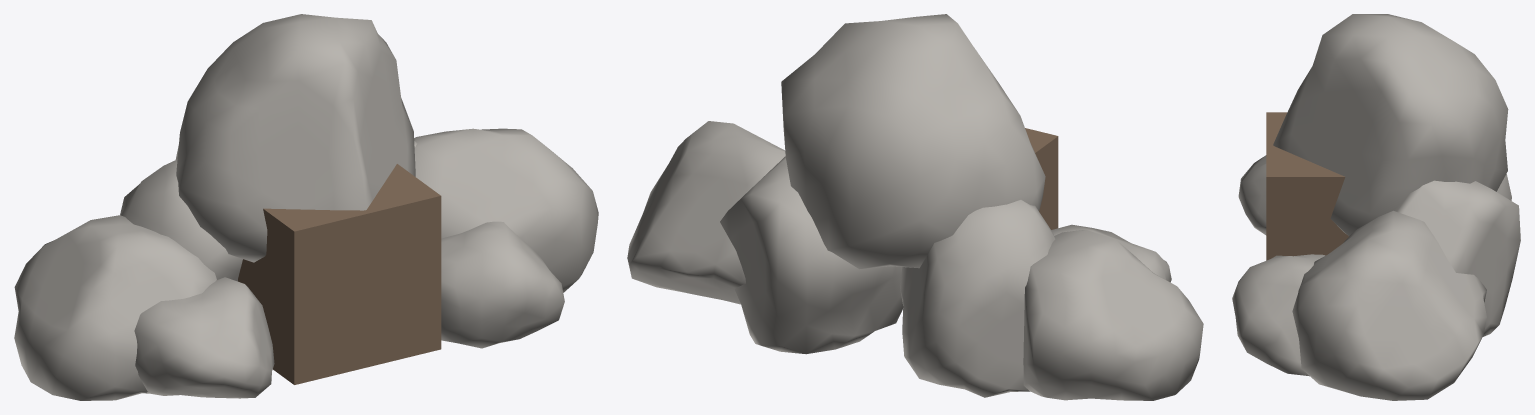
Rendered from cave_mouth.glb.
The picture shows the model from 3 angles, left to right: view 1: azimuth 30°, elevation 25°; view 2: azimuth 150°, elevation 25°; view 3: azimuth 270°, elevation 25°; orthographic projection. The views are drawn at different scales.
Visible parts, largest first — view 1: CaveMouth; view 2: CaveMouth; view 3: CaveMouth.
Boxes of the visible parts, box(x1,y1,x2,y2) form: CaveMouth: box(14, 14, 598, 400); CaveMouth: box(627, 14, 1203, 400); CaveMouth: box(1232, 14, 1520, 400).
Size of the model in its own units: 11.17 by 5.88 by 5.68.
